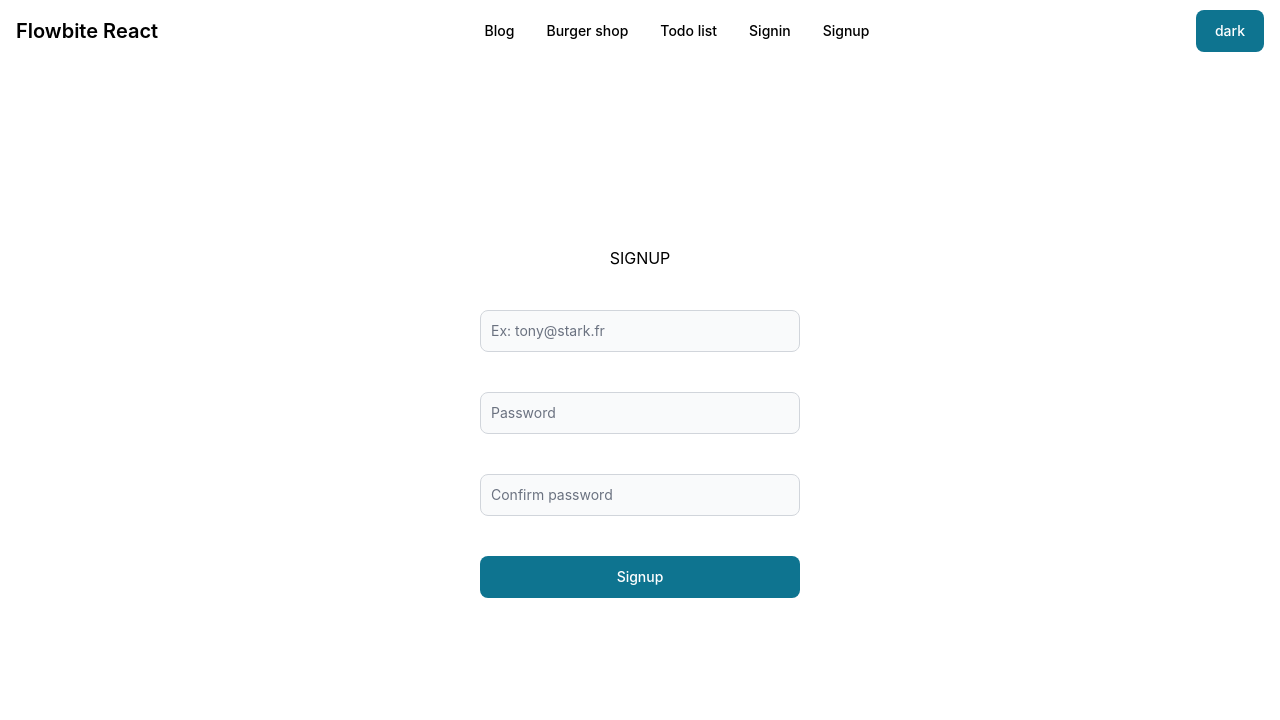
Test: Should redirect to todo Page after signin › Should display alert
Type "tony@stark.fr" into the field with placeholder "Ex: tony@stark.fr" at [640, 331], box [480,310,800,352]
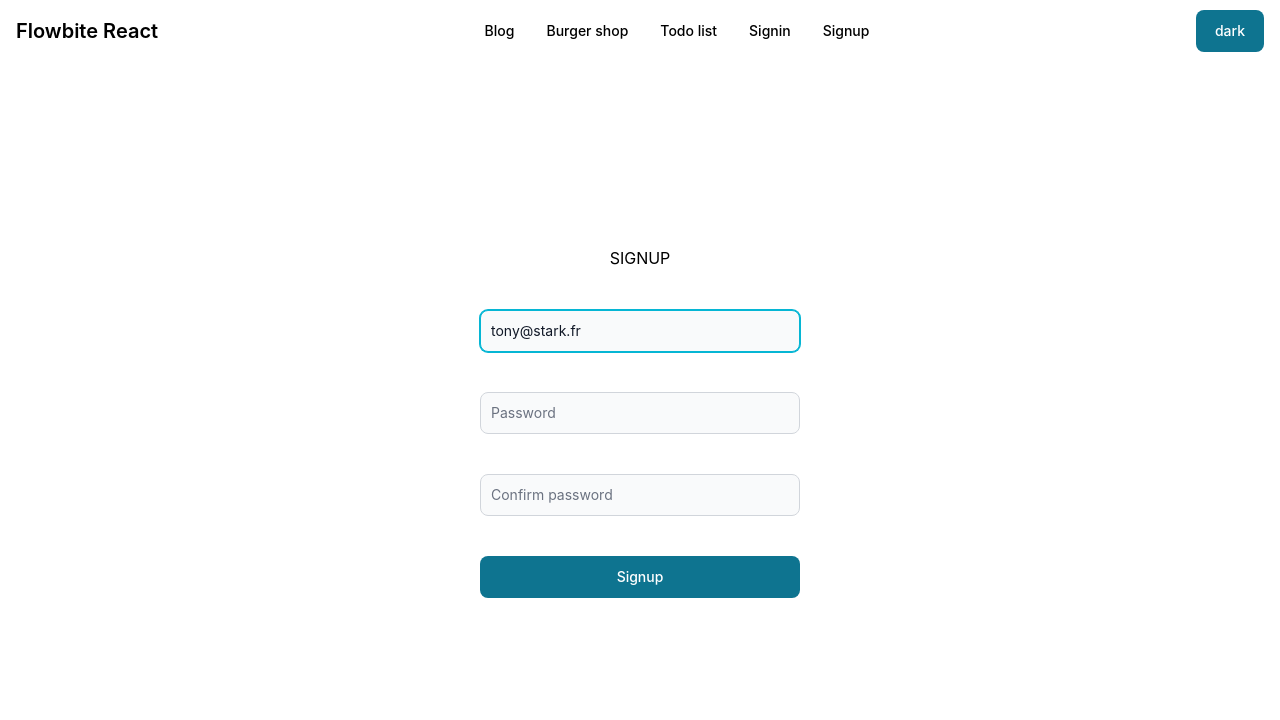
Type "1234" into the password field with placeholder "Password" at [640, 413], box [480,392,800,434]
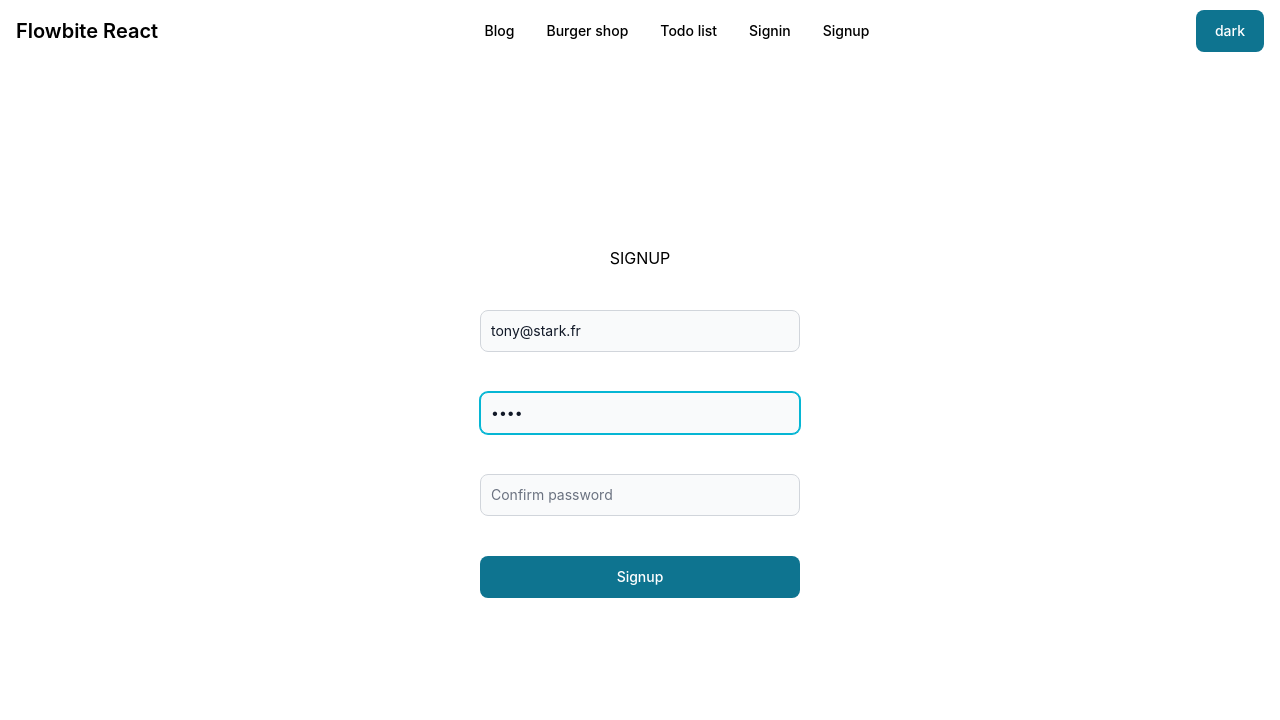
Type "12345" into the password field with placeholder "Confirm password" at [640, 495], box [480,474,800,516]
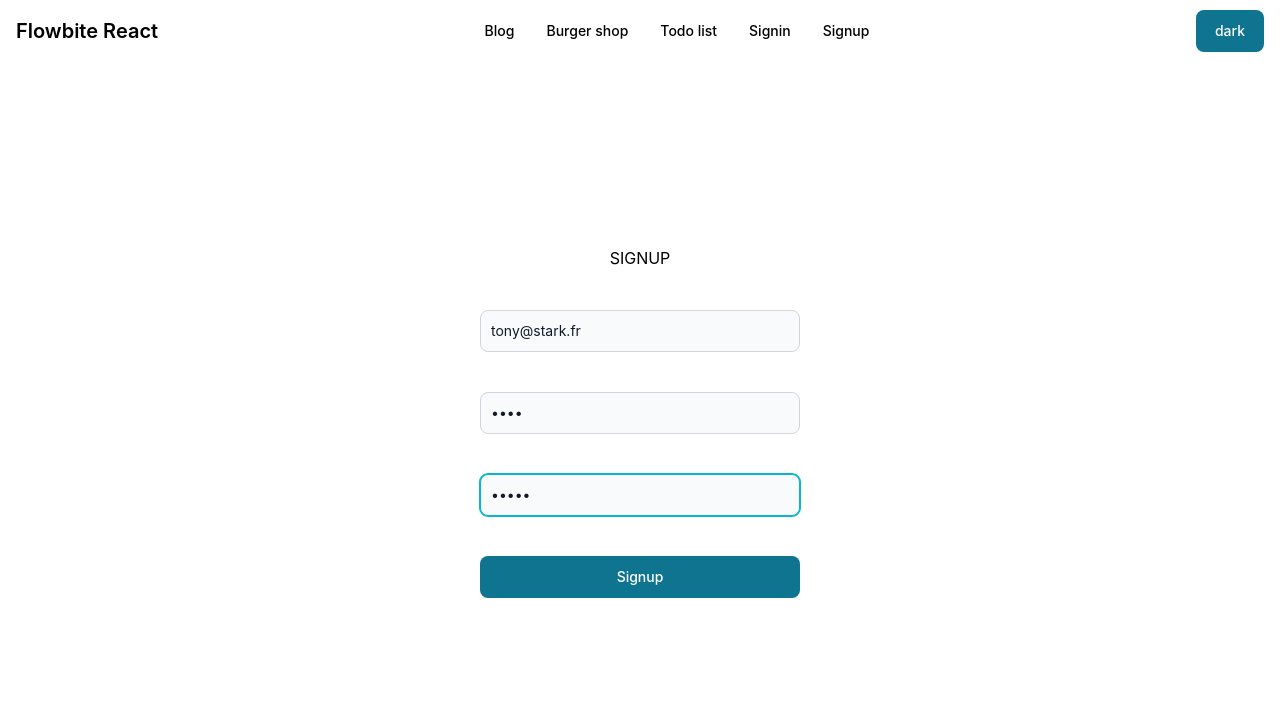
Click the button with test id "signup" at [640, 577], box [480,556,800,598]
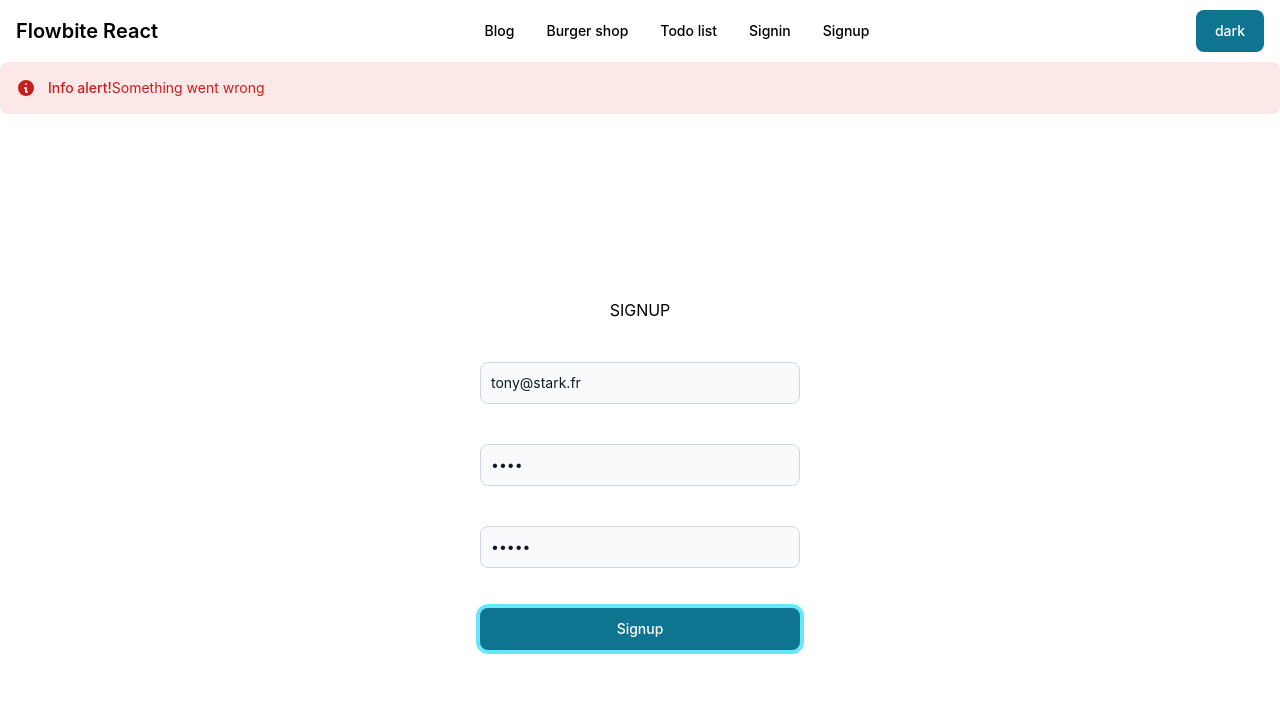
Result: the message "Info alert!Something went wrong" is shown at [0,62,1279,114]
